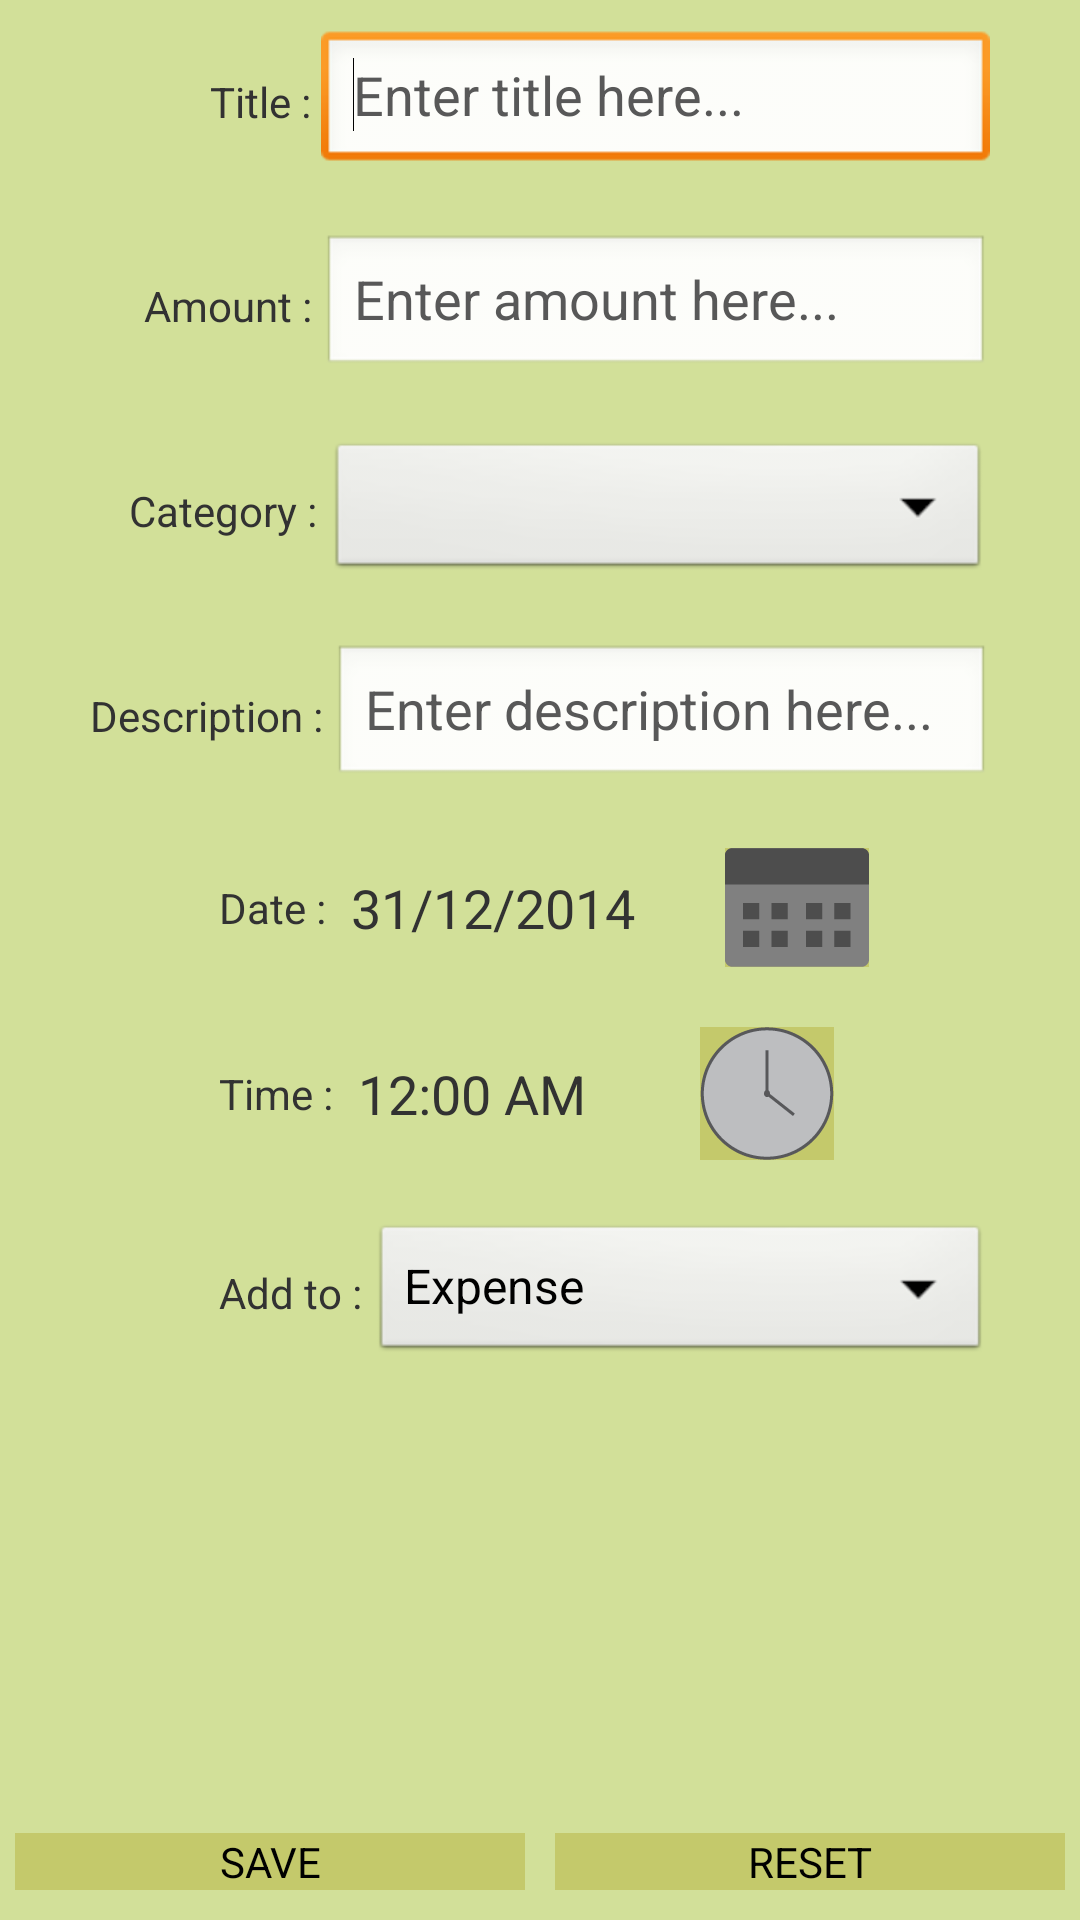

Icons on this 1080px x 1920px Android screen, each with its box as [x1=x1, y1=y1, x2=x2, y2=y2]:
alarm: [x1=700, y1=1027, x2=834, y2=1160]
calendar: [x1=725, y1=848, x2=869, y2=967]
